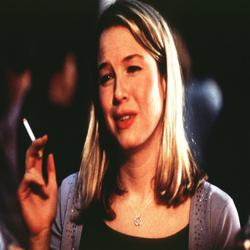smoking: (15, 115, 60, 230)
